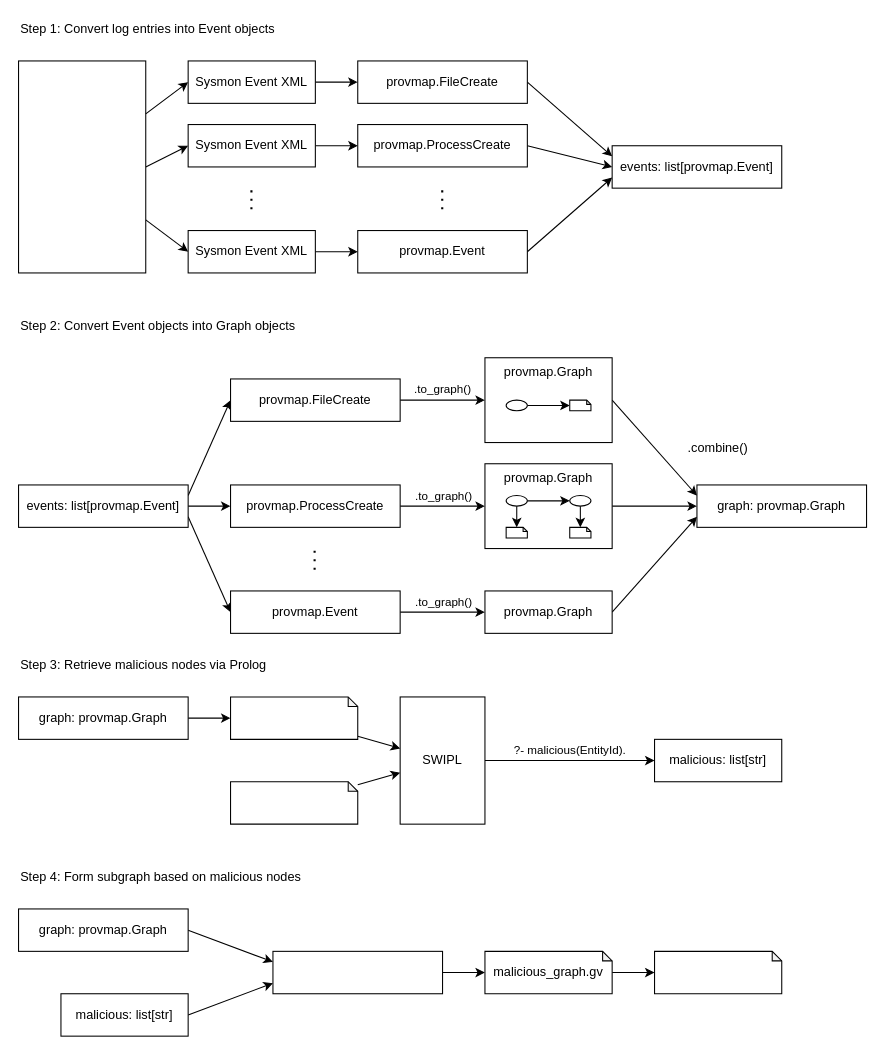
This 885x1055 diagram has some shape labels left out. The centre of each missing label's shape, as x and y in pixels:
Graph Visualisation: (717,972)
graph.pl: (293,717)
malicious_graph: provmap.Graph: (357,972)
rules.pl: (293,802)
Sysmon EVTX: (81,166)
